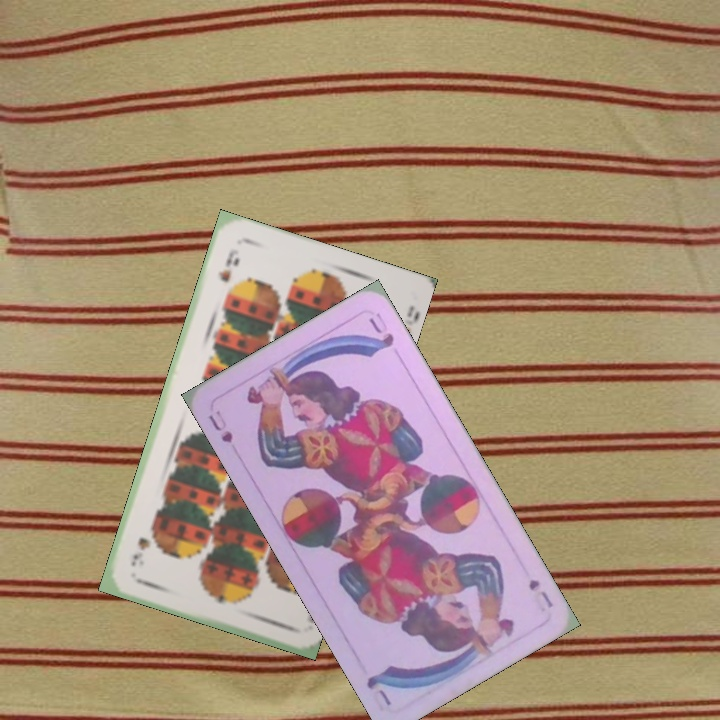S9: (214, 245, 241, 285)
SU: (204, 405, 236, 446), (524, 574, 556, 611)
